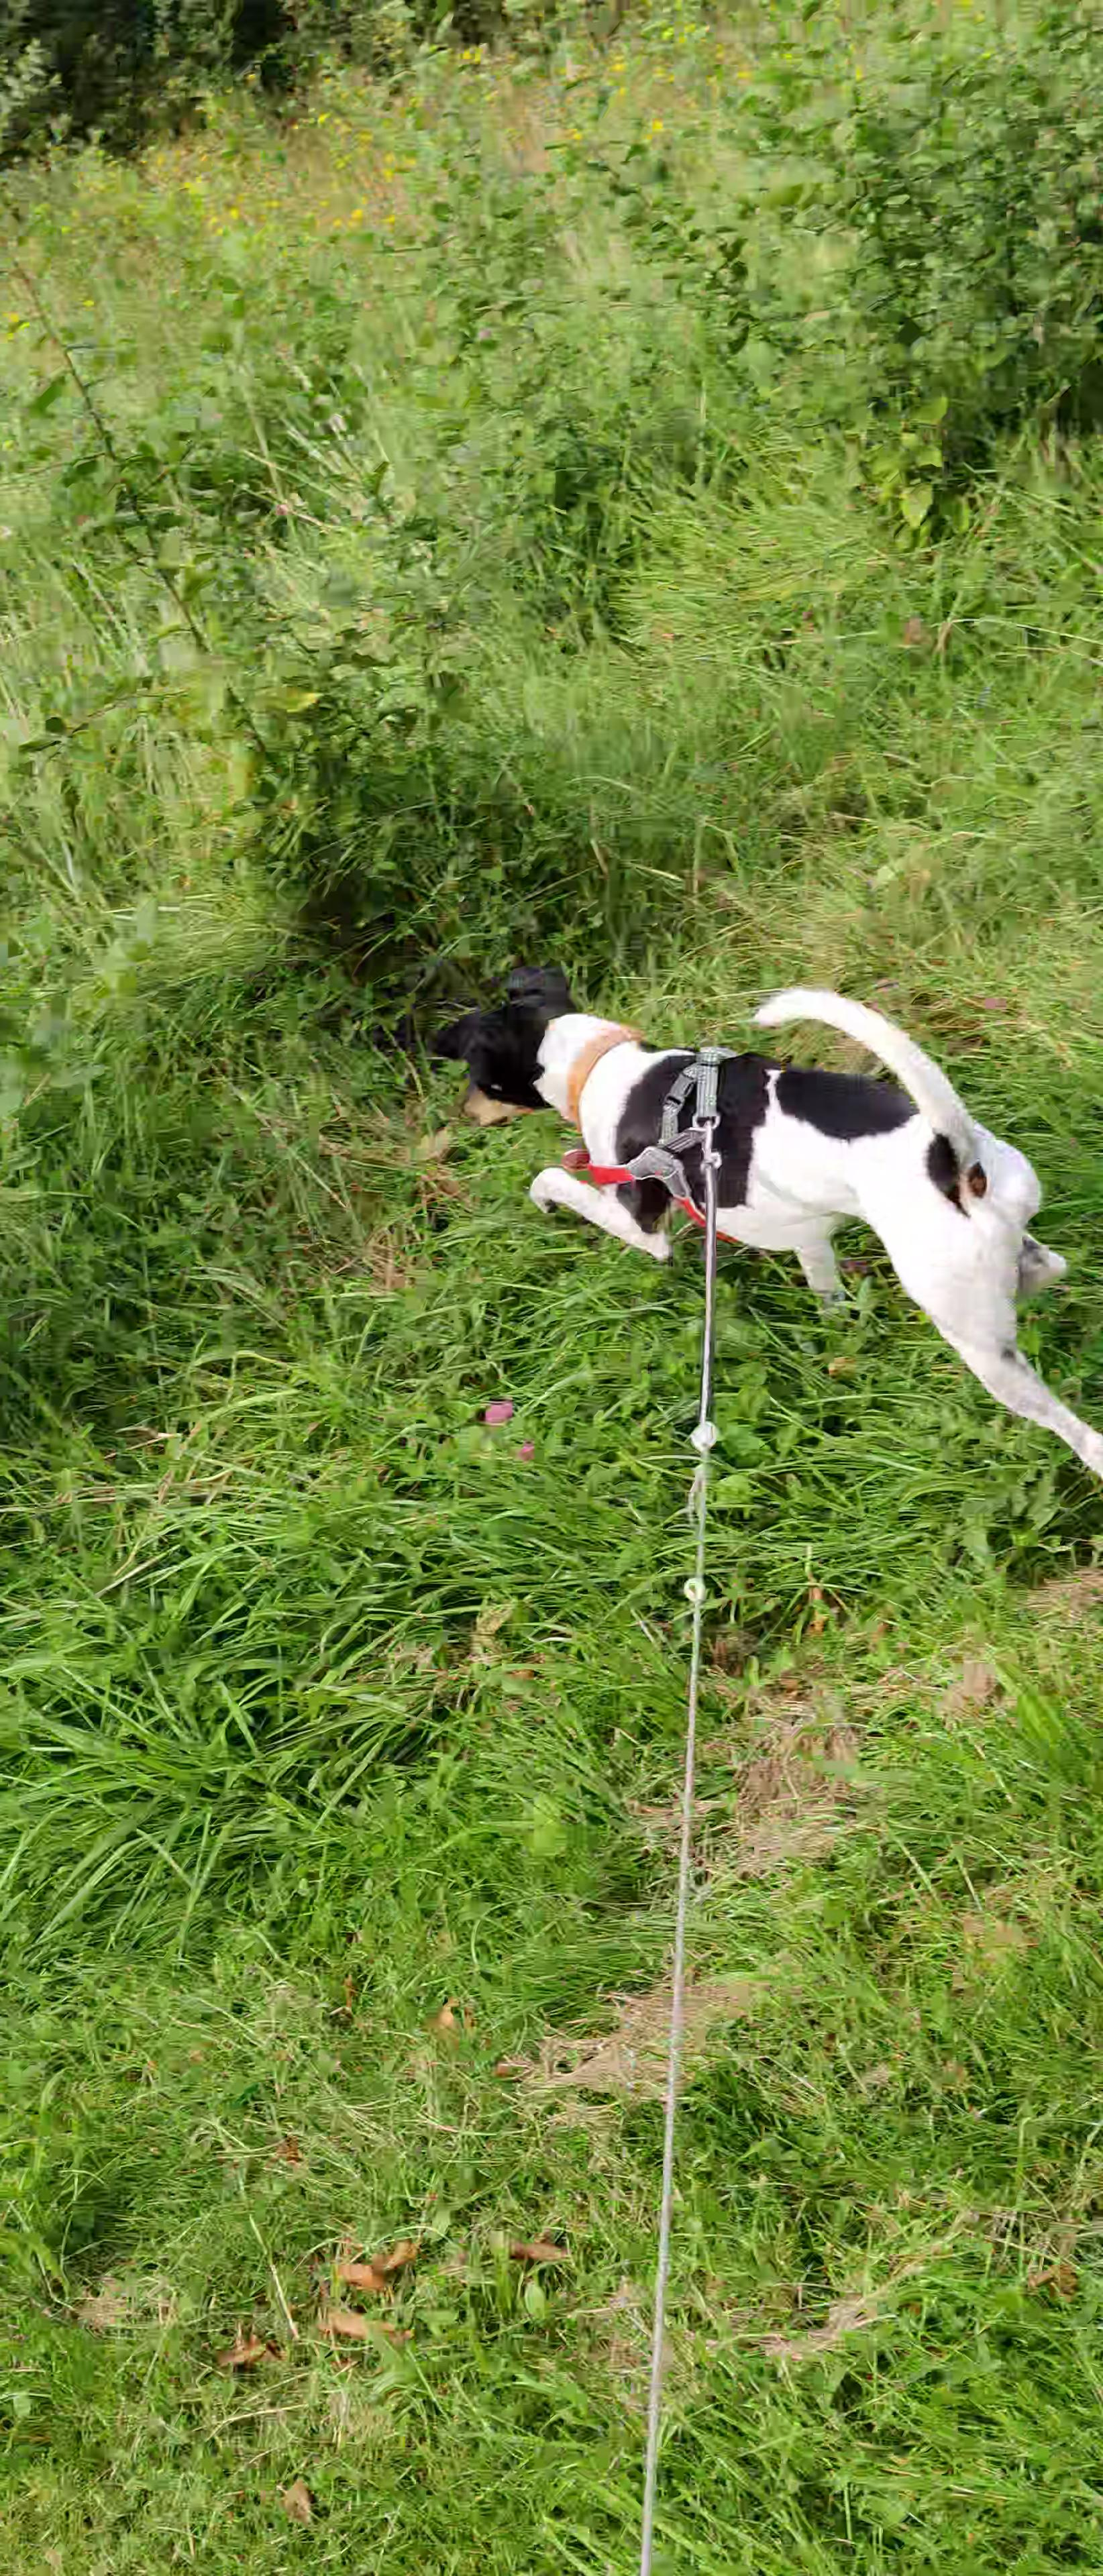Dog: (421, 963, 1103, 1470)
